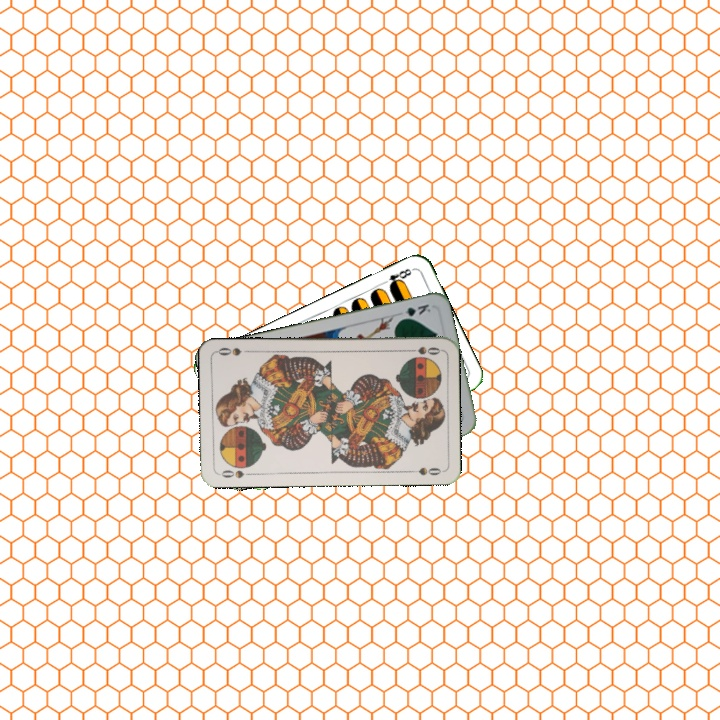E8: (378, 264, 416, 290)
GK: (395, 300, 433, 323)
SO: (402, 343, 443, 357), (215, 466, 256, 480)
